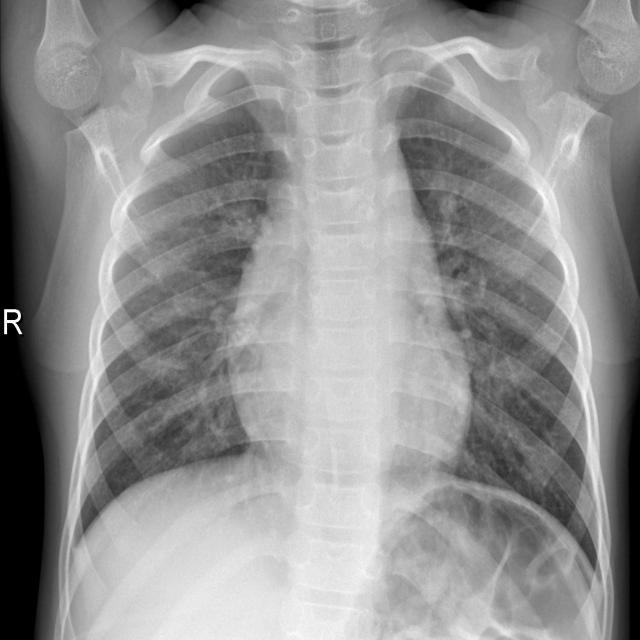no-pneumonia: (68, 97, 289, 545), (398, 87, 600, 568)
